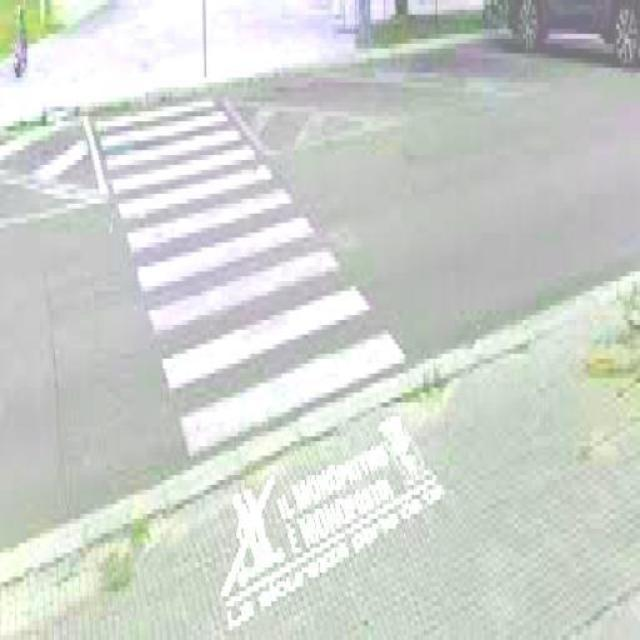sidewalk: (97, 92, 408, 459)
